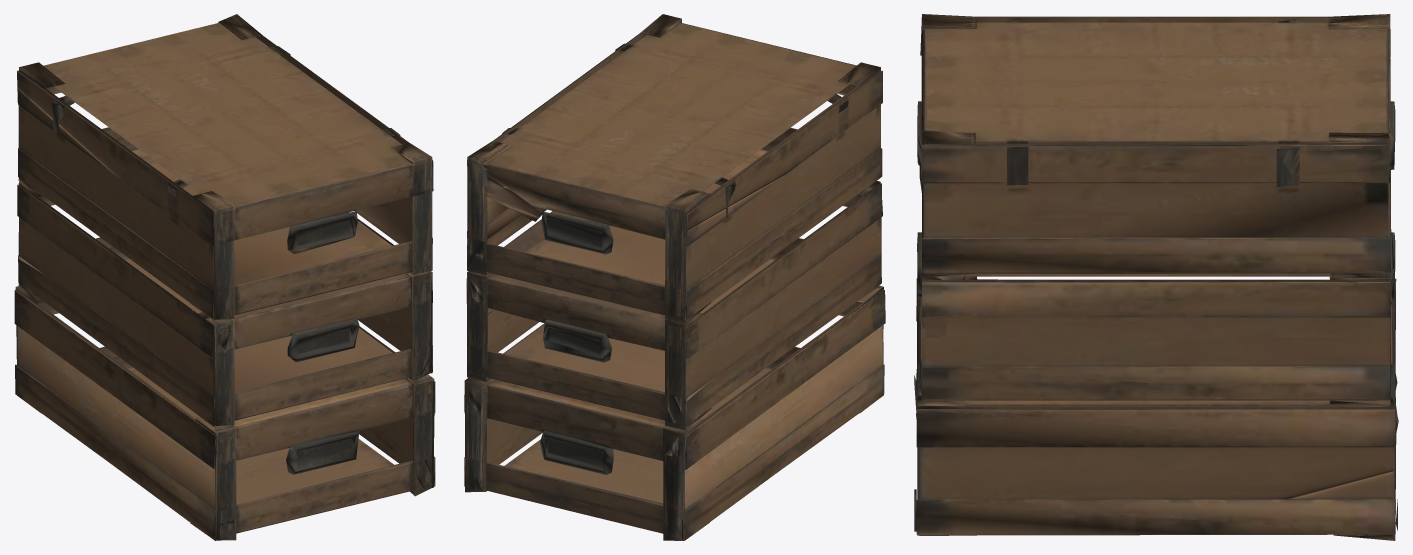
The model's file is crates.glb.
The picture shows the model from 3 angles, left to right: view 1: azimuth 30°, elevation 25°; view 2: azimuth 150°, elevation 25°; view 3: azimuth 270°, elevation 25°; orthographic projection. The views are drawn at different scales.
Size of the model in its own units: 0.9333 by 1.3 by 1.42.
Materials: 1 (1 with a texture image).
